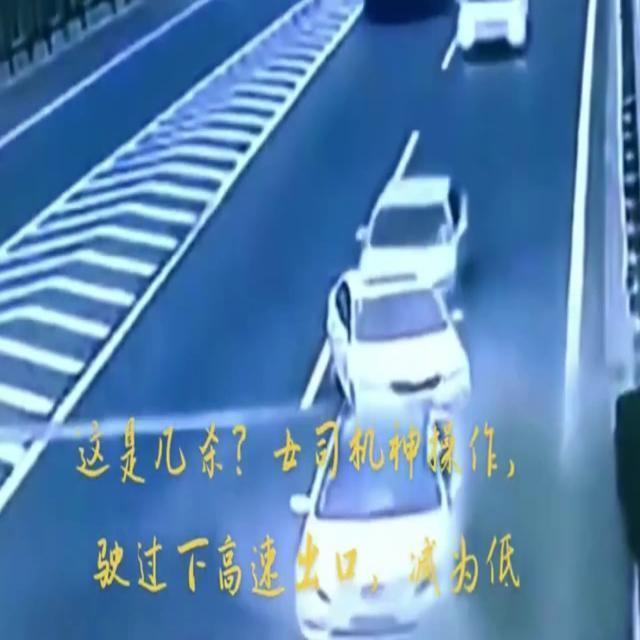accident: (294, 176, 474, 640)
